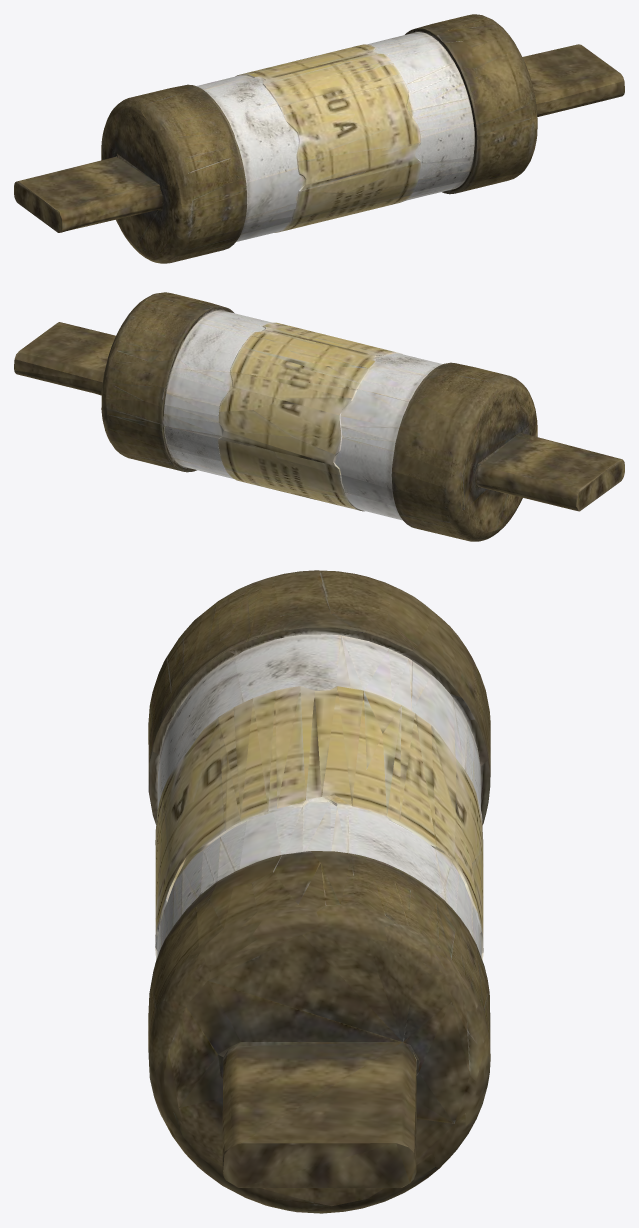
The model's file is fuse.glb.
3 renders of one model, top to bottom at view 1: azimuth 30°, elevation 25°; view 2: azimuth 150°, elevation 25°; view 3: azimuth 270°, elevation 25°, orthographic. The views are drawn at different scales.
Parts seen in each view (by area): view 1: Mesh_0; view 2: Mesh_0; view 3: Mesh_0.
Boxes of the visible parts, bbox=[...] form: Mesh_0: bbox=[14, 14, 624, 263]; Mesh_0: bbox=[14, 292, 624, 541]; Mesh_0: bbox=[148, 570, 490, 1213].
Size of the model in its own units: 1.9 by 0.4986 by 0.5009.
1 material, 1 textured.
